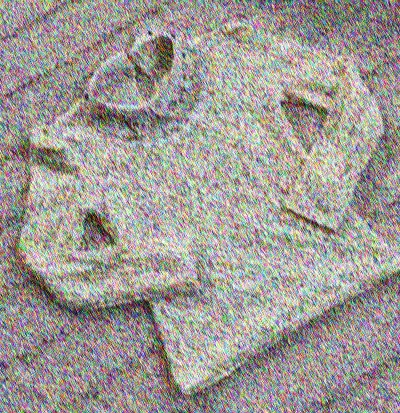Blouse: (23, 36, 395, 375)
